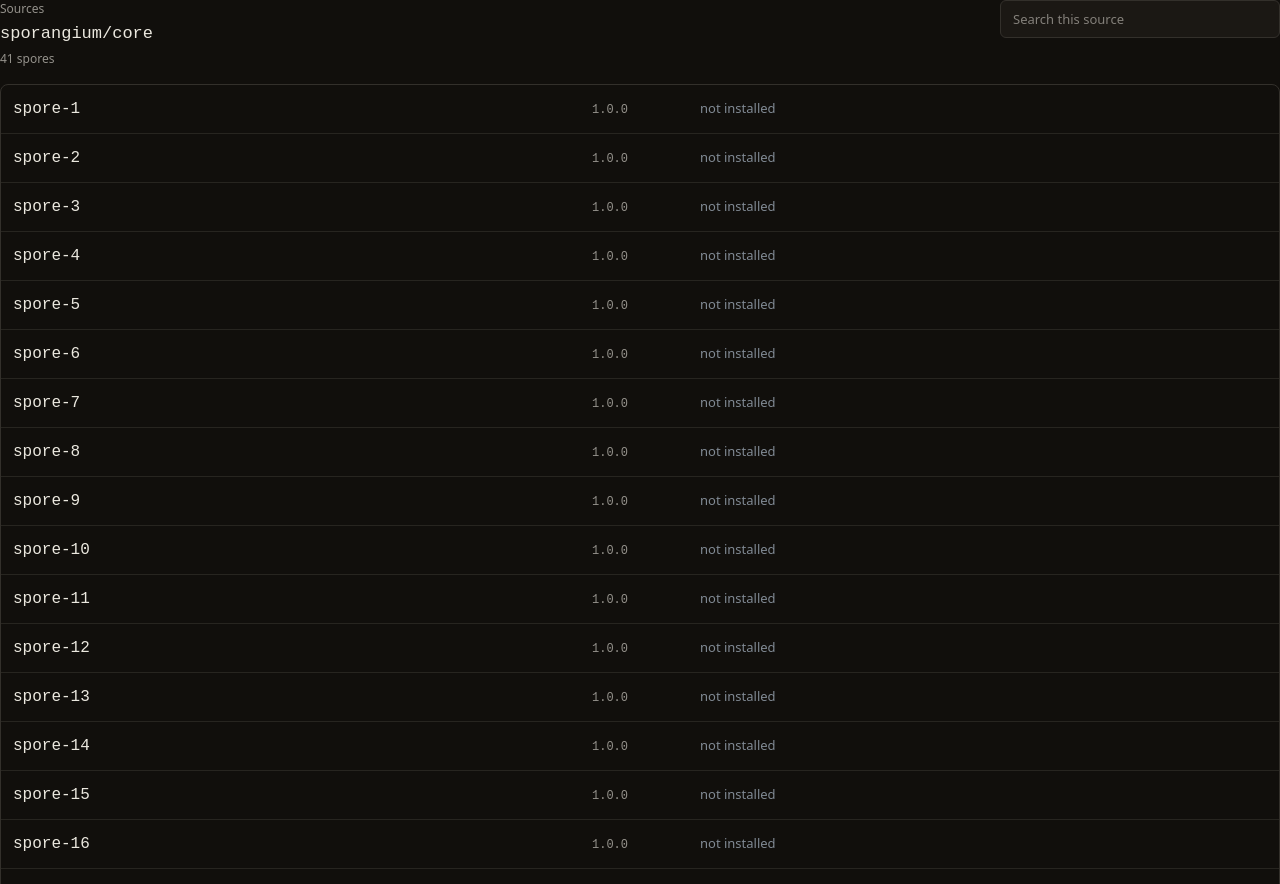
reading a catalogue larger than one page › searches the whole catalogue, not just the page on screen
Type "the-last-one" into the search field.
click(1140, 19); type("the-last-one")  # box left=1000, top=0, right=1279, bottom=38
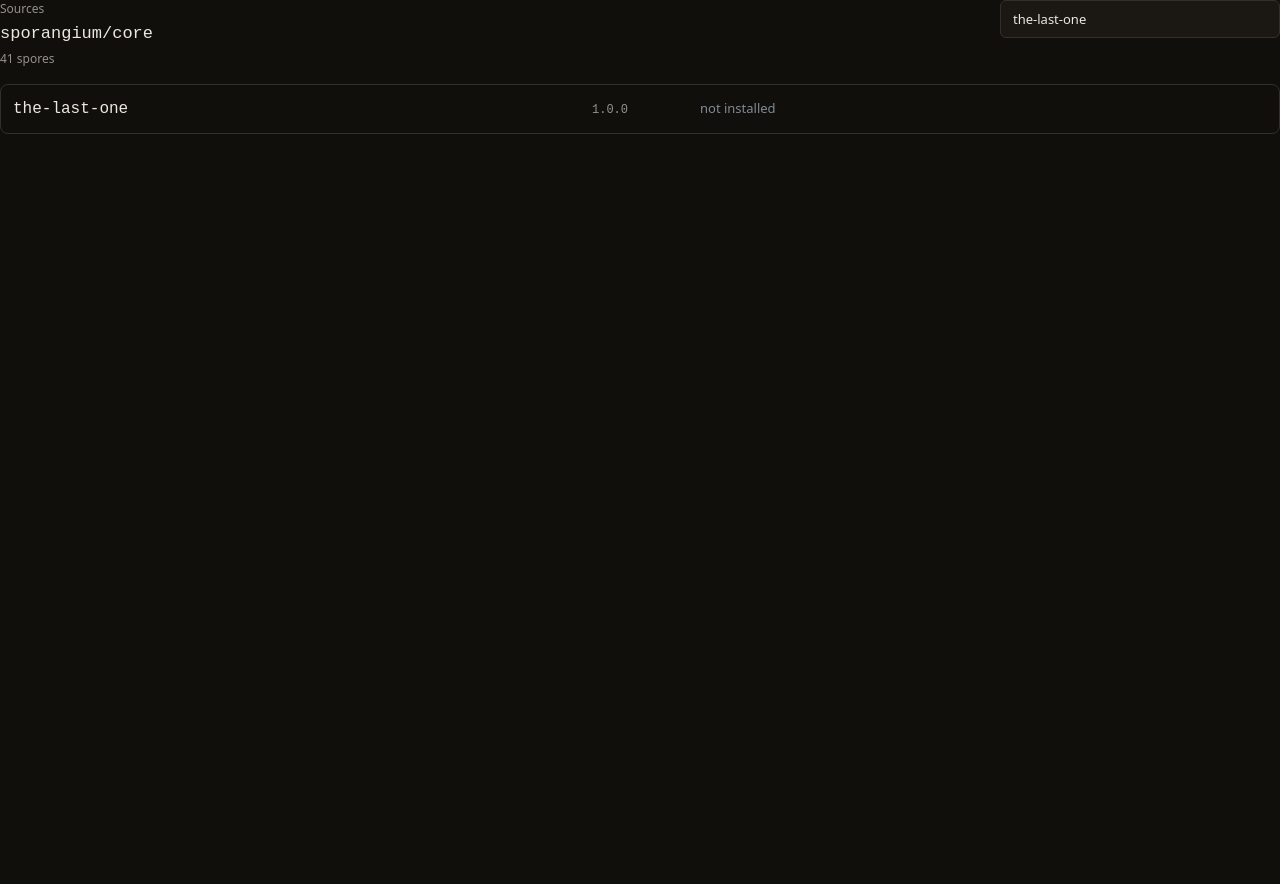
expect the link "the-last-one" is shown: met, box left=13, top=100, right=128, bottom=118
